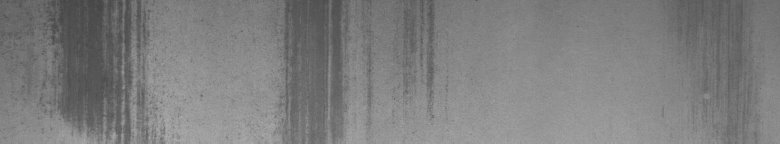ka: (284, 4, 433, 136)
